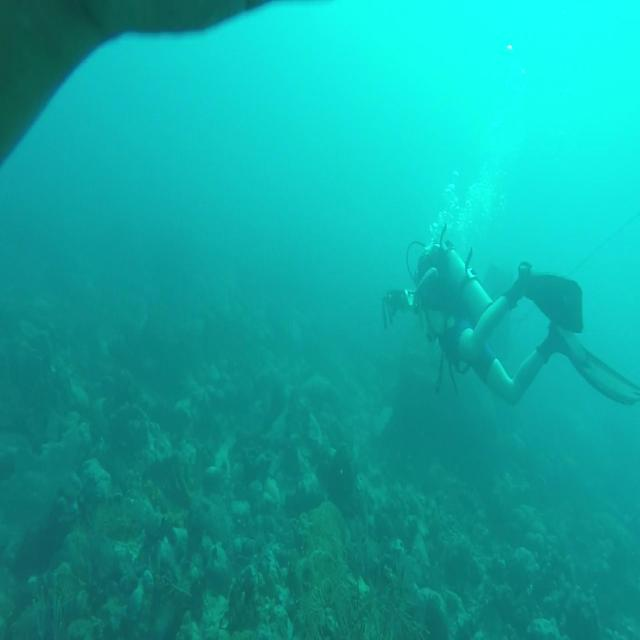human: (382, 222, 639, 409)
